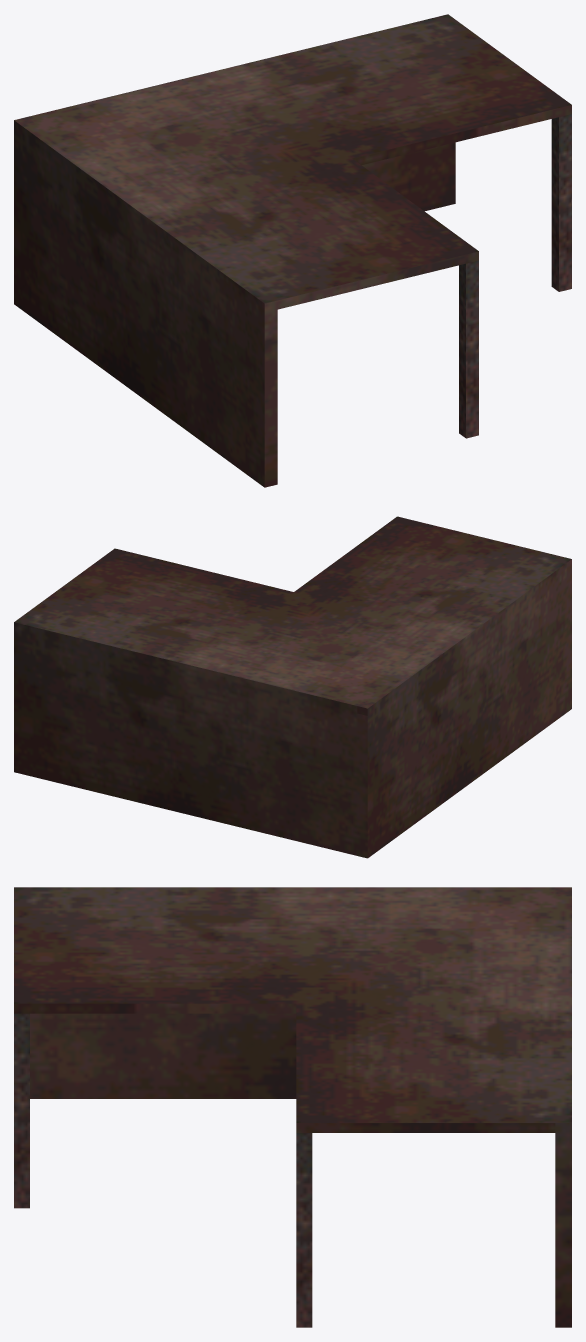
Rendered from desk2_corner_weathered.obj.
The picture shows the model from 3 angles, top to bottom: view 1: azimuth 30°, elevation 25°; view 2: azimuth 150°, elevation 25°; view 3: azimuth 270°, elevation 25°; orthographic projection. The views are drawn at different scales.
Visible parts, largest first — view 1: desk2_corner_weathered; view 2: desk2_corner_weathered; view 3: desk2_corner_weathered.
Part boxes in pixels (<box>): desk2_corner_weathered: <box>14,14,571,487</box>; desk2_corner_weathered: <box>14,516,571,858</box>; desk2_corner_weathered: <box>14,887,571,1327</box>.
Size of the model in its own units: 2.2 by 0.8911 by 2.2.
